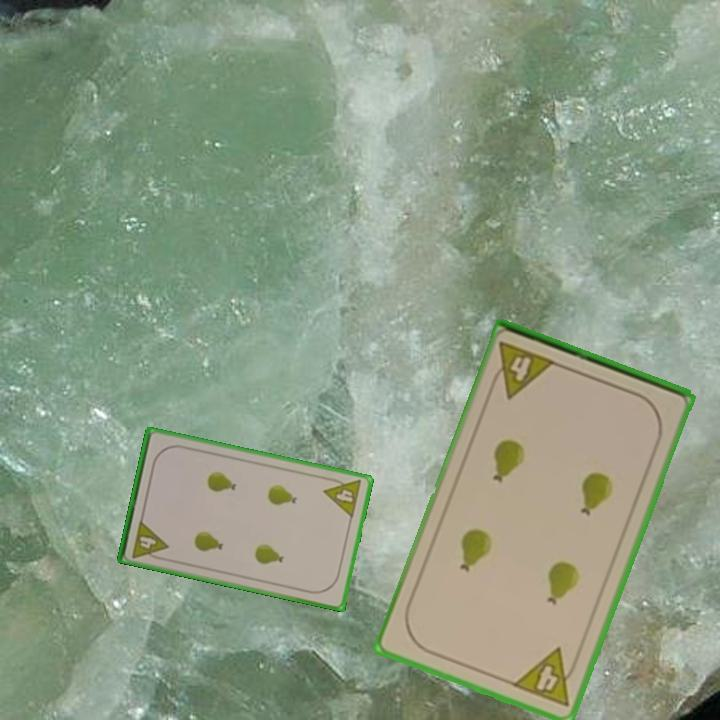4p: (508, 644, 583, 710), (486, 338, 559, 402), (320, 473, 364, 521), (128, 516, 171, 563)
